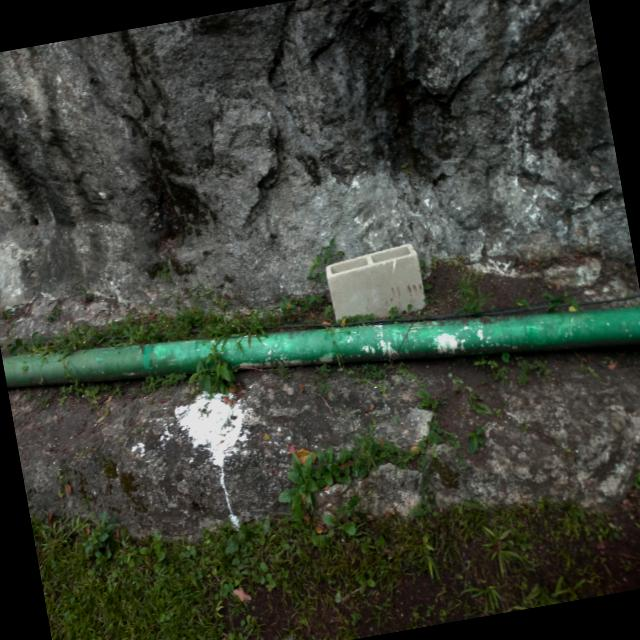gas: (2, 307, 640, 386)
